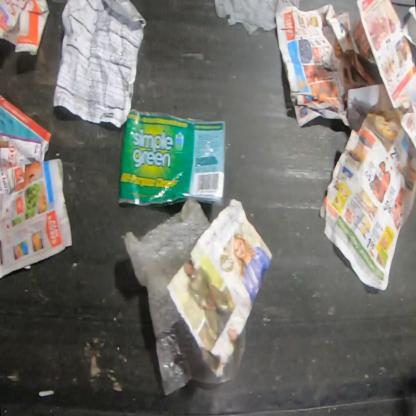rigid_plastic: (0, 0, 50, 57)
soft_plastic: (124, 200, 247, 397), (117, 106, 228, 209)
